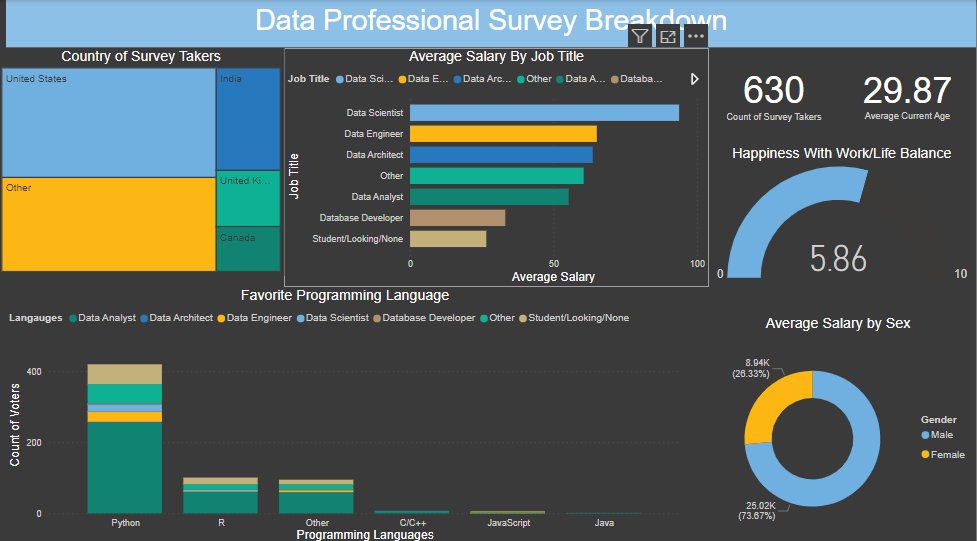

The dashboard page shown, as its layout file describes it:
{"tool":"powerbi","page":{"name":"Page 1","canvas":[1280,720],"ordinal":0},"visuals":[{"type":"textbox","box":[9.8,0,1270.2,61.9],"z":0},{"type":"card","fields":{"Values":["Count(Data Professional Survey.Unique ID)"]},"box":[931.2,62.4,170,118.2],"z":1000},{"type":"card","fields":{"Values":["Avg(Data Professional Survey.Q10 - Current Age)"]},"box":[1101.3,62.4,179.3,118.2],"z":2000},{"type":"barChart","title":"Average Salary By Job Title","fields":{"Category":["Data Professional Survey.Q1 - Which Title Best Fits your Current Role?.1"],"Y":["Avg(Data Professional Survey.Average Salary)"],"Series":["Data Professional Survey.Q1 - Which Title Best Fits your Current Role?.1"]},"box":[374.6,62.4,556.6,313.5],"z":3000},{"type":"columnChart","title":"Favorite Programming Language","fields":{"Category":["Data Professional Survey.Q5 - Favorite Programming Language.1"],"Y":["Count(Data Professional Survey.Unique ID)"],"Series":["Data Professional Survey.Q1 - Which Title Best Fits your Current Role?.1"]},"box":[9.3,375.9,890,338.7],"z":4000},{"type":"treemap","title":"Country of Survey Takers","fields":{"Group":["Data Professional Survey.Q11 - Which Country do you live in?.1"],"Values":["CountNonNull(Data Professional Survey.Q11 - Which Country do you live in?.1)"]},"box":[0,62.4,374.6,297.6],"z":5000},{"type":"gauge","title":"Happiness With Work/Life Balance","fields":{"Y":["Avg(Data Professional Survey.Q6 - How Happy are you in your Current Position with the following? (Coworkers))"],"MinValue":["Min(Data Professional Survey.Q6 - How Happy are you in your Current Position with the following? (Coworkers))"],"MaxValue":["Max(Data Professional Survey.Q6 - How Happy are you in your Current Position with the following? (Coworkers))"]},"box":[931.2,190,348,186],"z":6000},{"type":"donutChart","title":"Average Salary by Sex","fields":{"Y":["Sum(Data Professional Survey.Average Salary)"],"Category":["Data Professional Survey.Q9 - Male/Female?"]},"box":[919.3,411.8,361.3,302.9],"z":7000}]}

Visuals, with their boxes in screenshot pixels (x1, y1, x2, y2), scaled from the page's 1280x720 canvas onto the 977x541 screenshot:
textbox: locate(7, 0, 976, 47)
card - Count(Data Professional Survey.Unique ID): locate(711, 47, 841, 136)
card - Avg(Data Professional Survey.Q10 - Current Age): locate(841, 47, 976, 136)
"Average Salary By Job Title" barChart: locate(286, 47, 711, 282)
"Favorite Programming Language" columnChart: locate(7, 282, 686, 537)
"Country of Survey Takers" treemap: locate(0, 47, 286, 270)
"Happiness With Work/Life Balance" gauge: locate(711, 143, 976, 283)
"Average Salary by Sex" donutChart: locate(702, 309, 976, 537)
